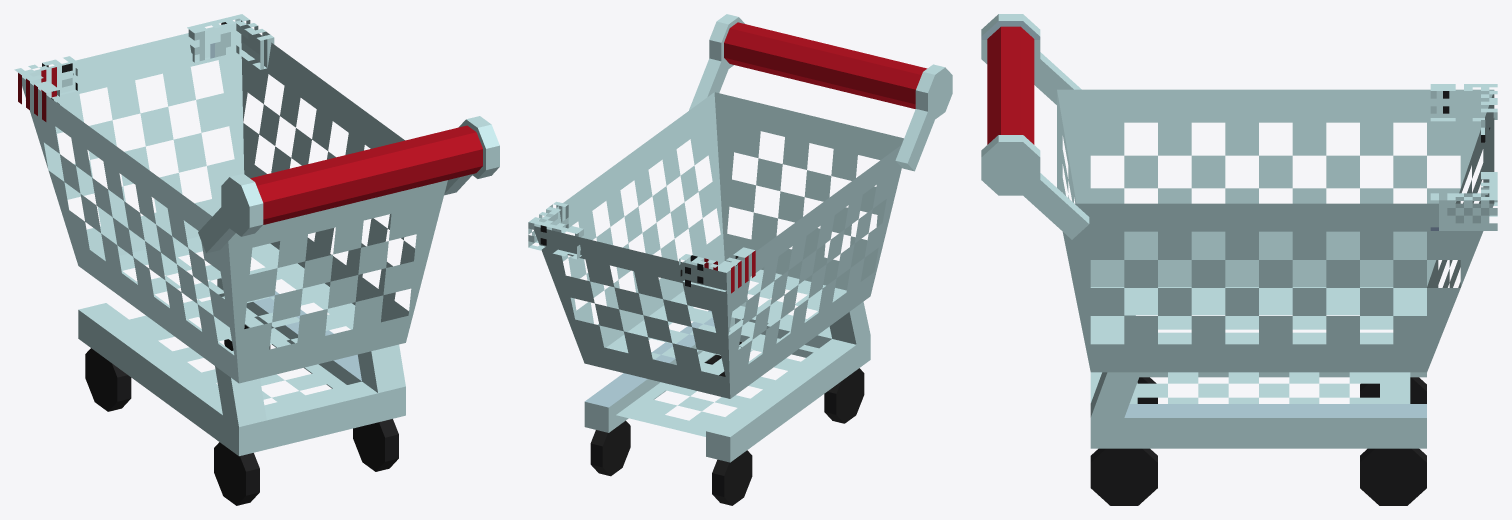
The model's file is Carrito para Cody.fbx.
The picture shows the model from 3 angles, left to right: view 1: azimuth 30°, elevation 25°; view 2: azimuth 150°, elevation 25°; view 3: azimuth 270°, elevation 25°; orthographic projection. The views are drawn at different scales.
Parts seen in each view (by area): view 1: cube, cube_1, cylinder, cube_2, plane, cylinder_3, cylinder_2, cylinder_4; view 2: cube, cylinder, cube_1, plane, cube_2, cylinder_2, cylinder_1, cylinder_3; view 3: cube, cube_1, cylinder, plane, cylinder_4, cylinder_1, cube_2, cylinder_2.
Boxes of the visible parts, <box> form: cube: <box>22,20,447,383</box>; cube_1: <box>78,278,405,456</box>; cylinder: <box>198,116,499,253</box>; cube_2: <box>14,14,274,121</box>; plane: <box>129,296,346,401</box>; cylinder_3: <box>214,442,259,505</box>; cylinder_2: <box>85,348,131,411</box>; cylinder_4: <box>353,419,398,471</box>; cube: <box>534,92,903,398</box>; cylinder: <box>689,14,952,171</box>; cube_1: <box>584,297,870,462</box>; plane: <box>616,331,818,436</box>; cube_2: <box>528,201,755,293</box>; cylinder_2: <box>712,450,752,505</box>; cylinder_1: <box>590,420,630,476</box>; cylinder_3: <box>824,368,864,423</box>; cube: <box>1057,89,1494,372</box>; cube_1: <box>1090,315,1426,448</box>; cylinder: <box>981,14,1089,239</box>; plane: <box>1129,372,1410,403</box>; cylinder_4: <box>1090,448,1157,505</box>; cylinder_1: <box>1360,448,1426,505</box>; cube_2: <box>1430,84,1497,230</box>; cylinder_2: <box>1360,377,1426,403</box>.
Size of the model in its own units: 56.25 by 79.71 by 95.96.
Materials: 2 (2 with a texture image).
